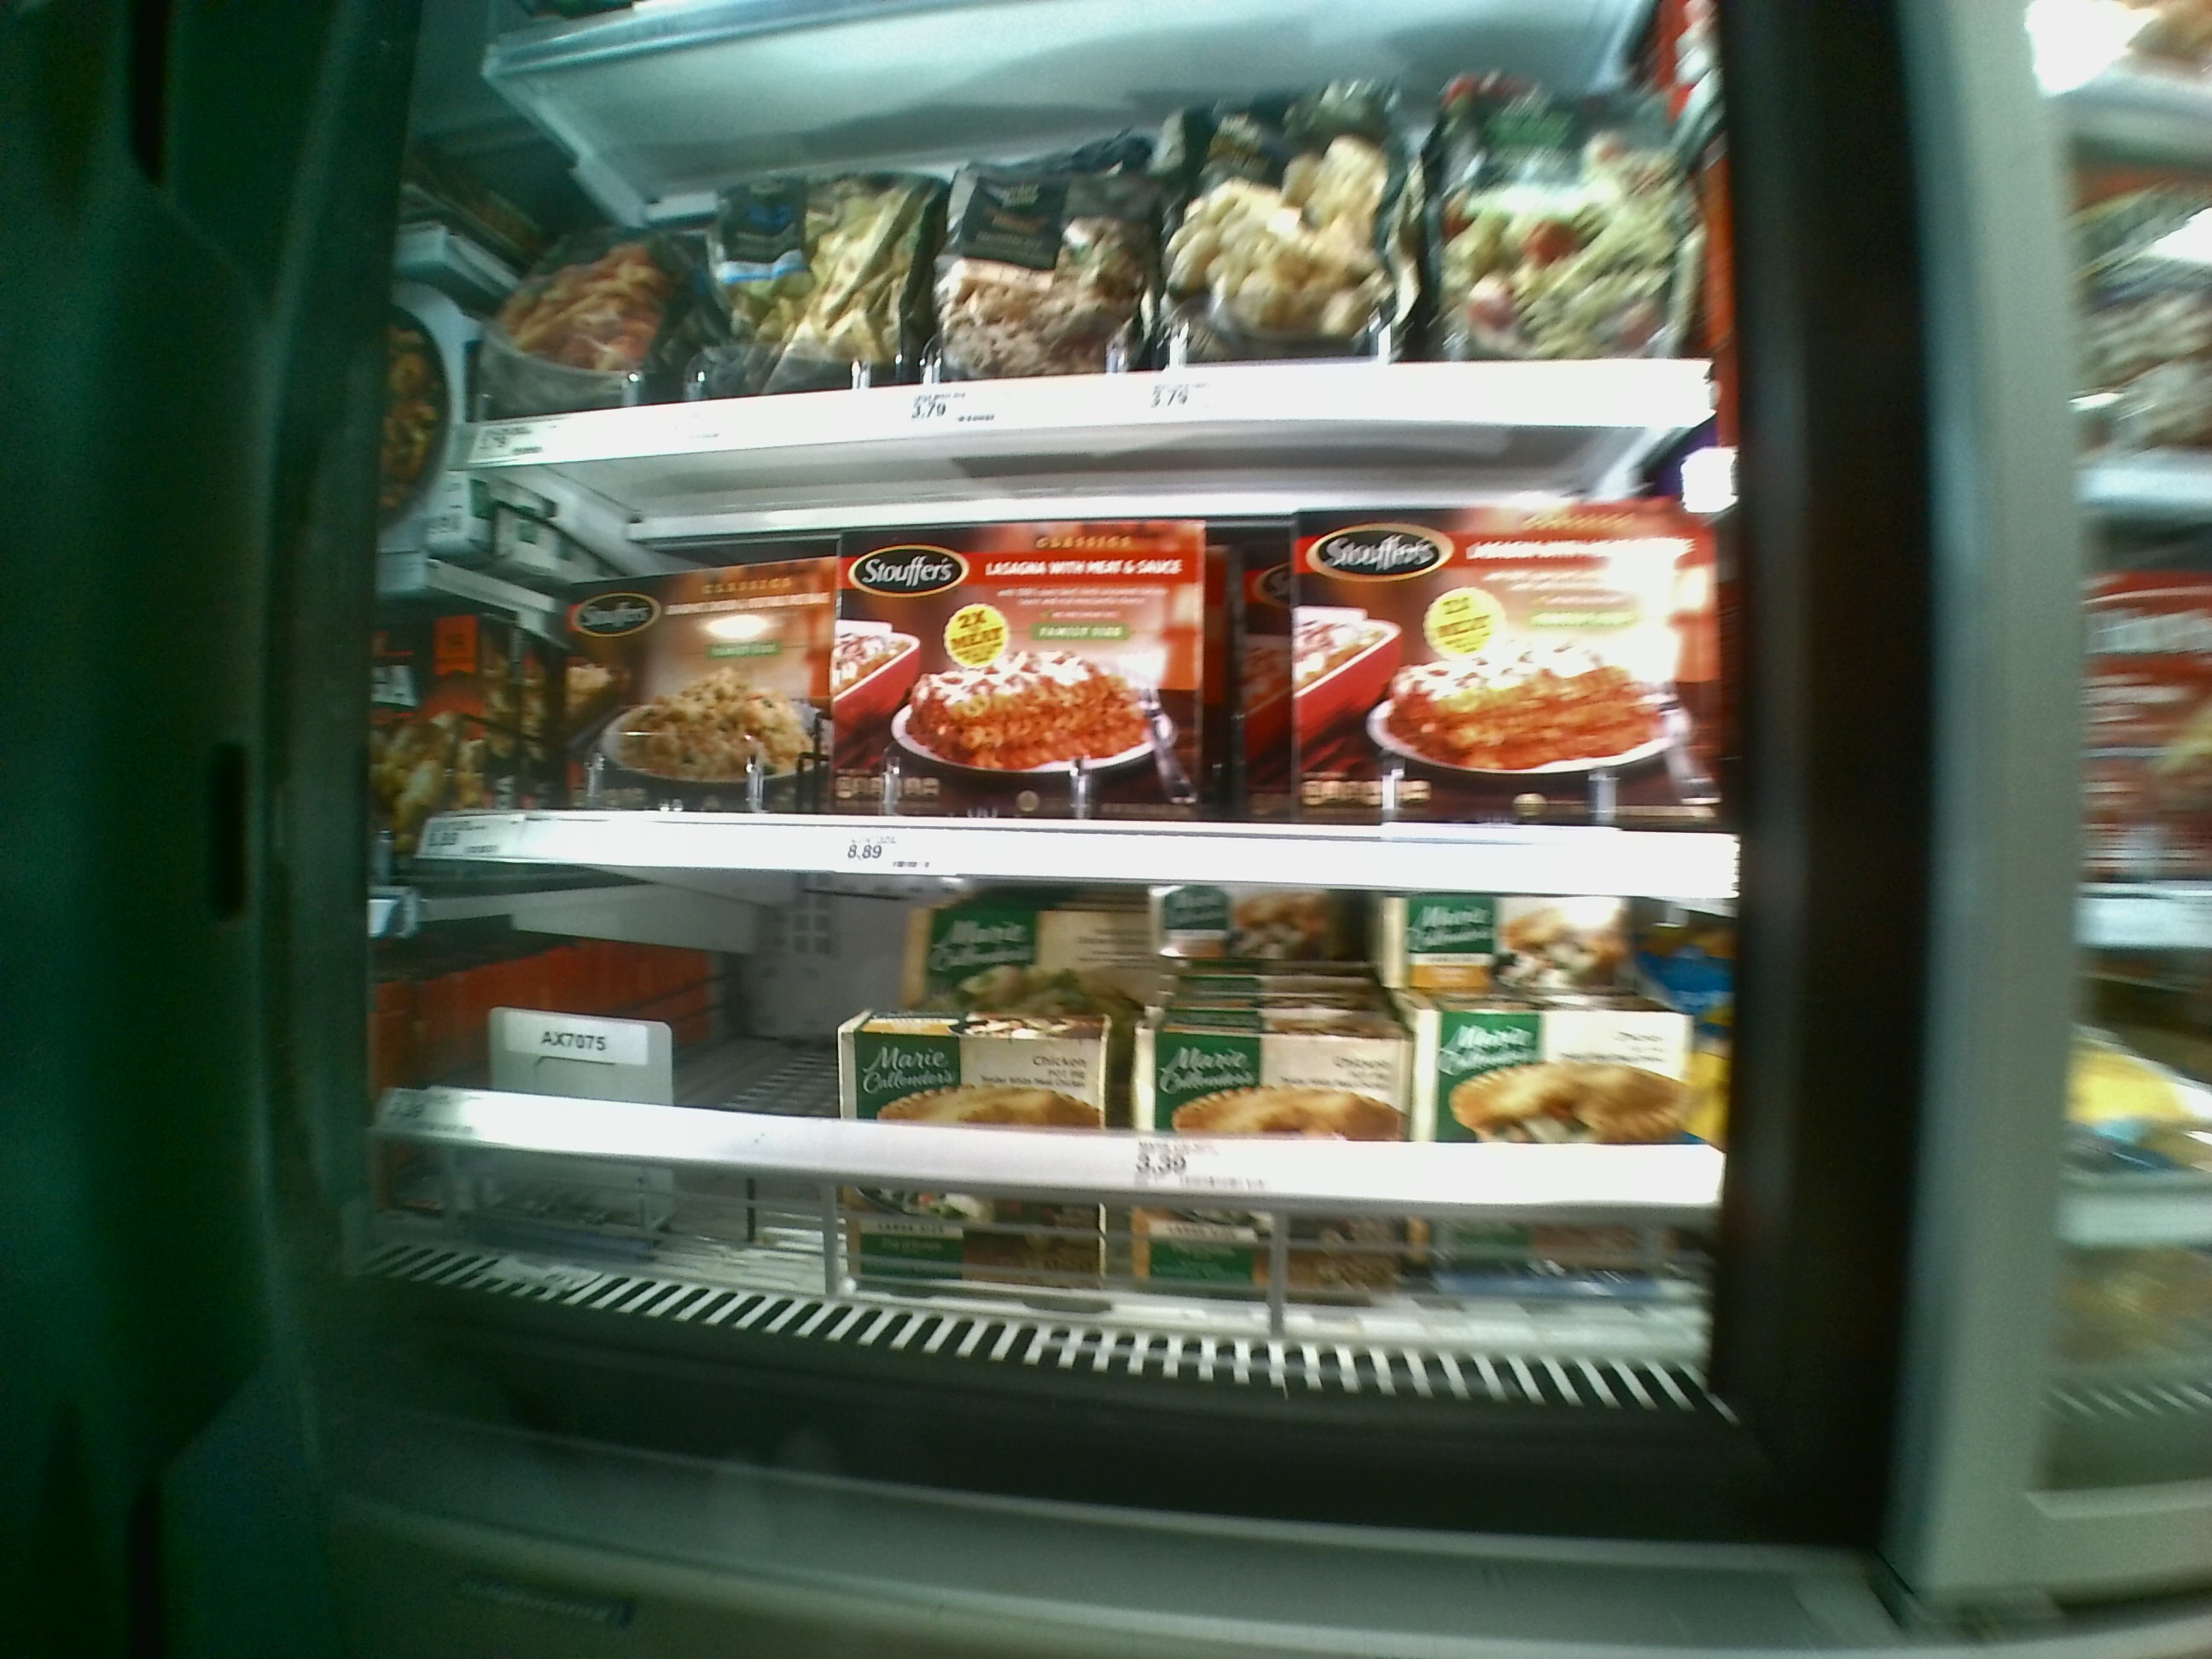frozen-food-shelf: (423, 500, 1726, 903), (413, 894, 1717, 1208)
